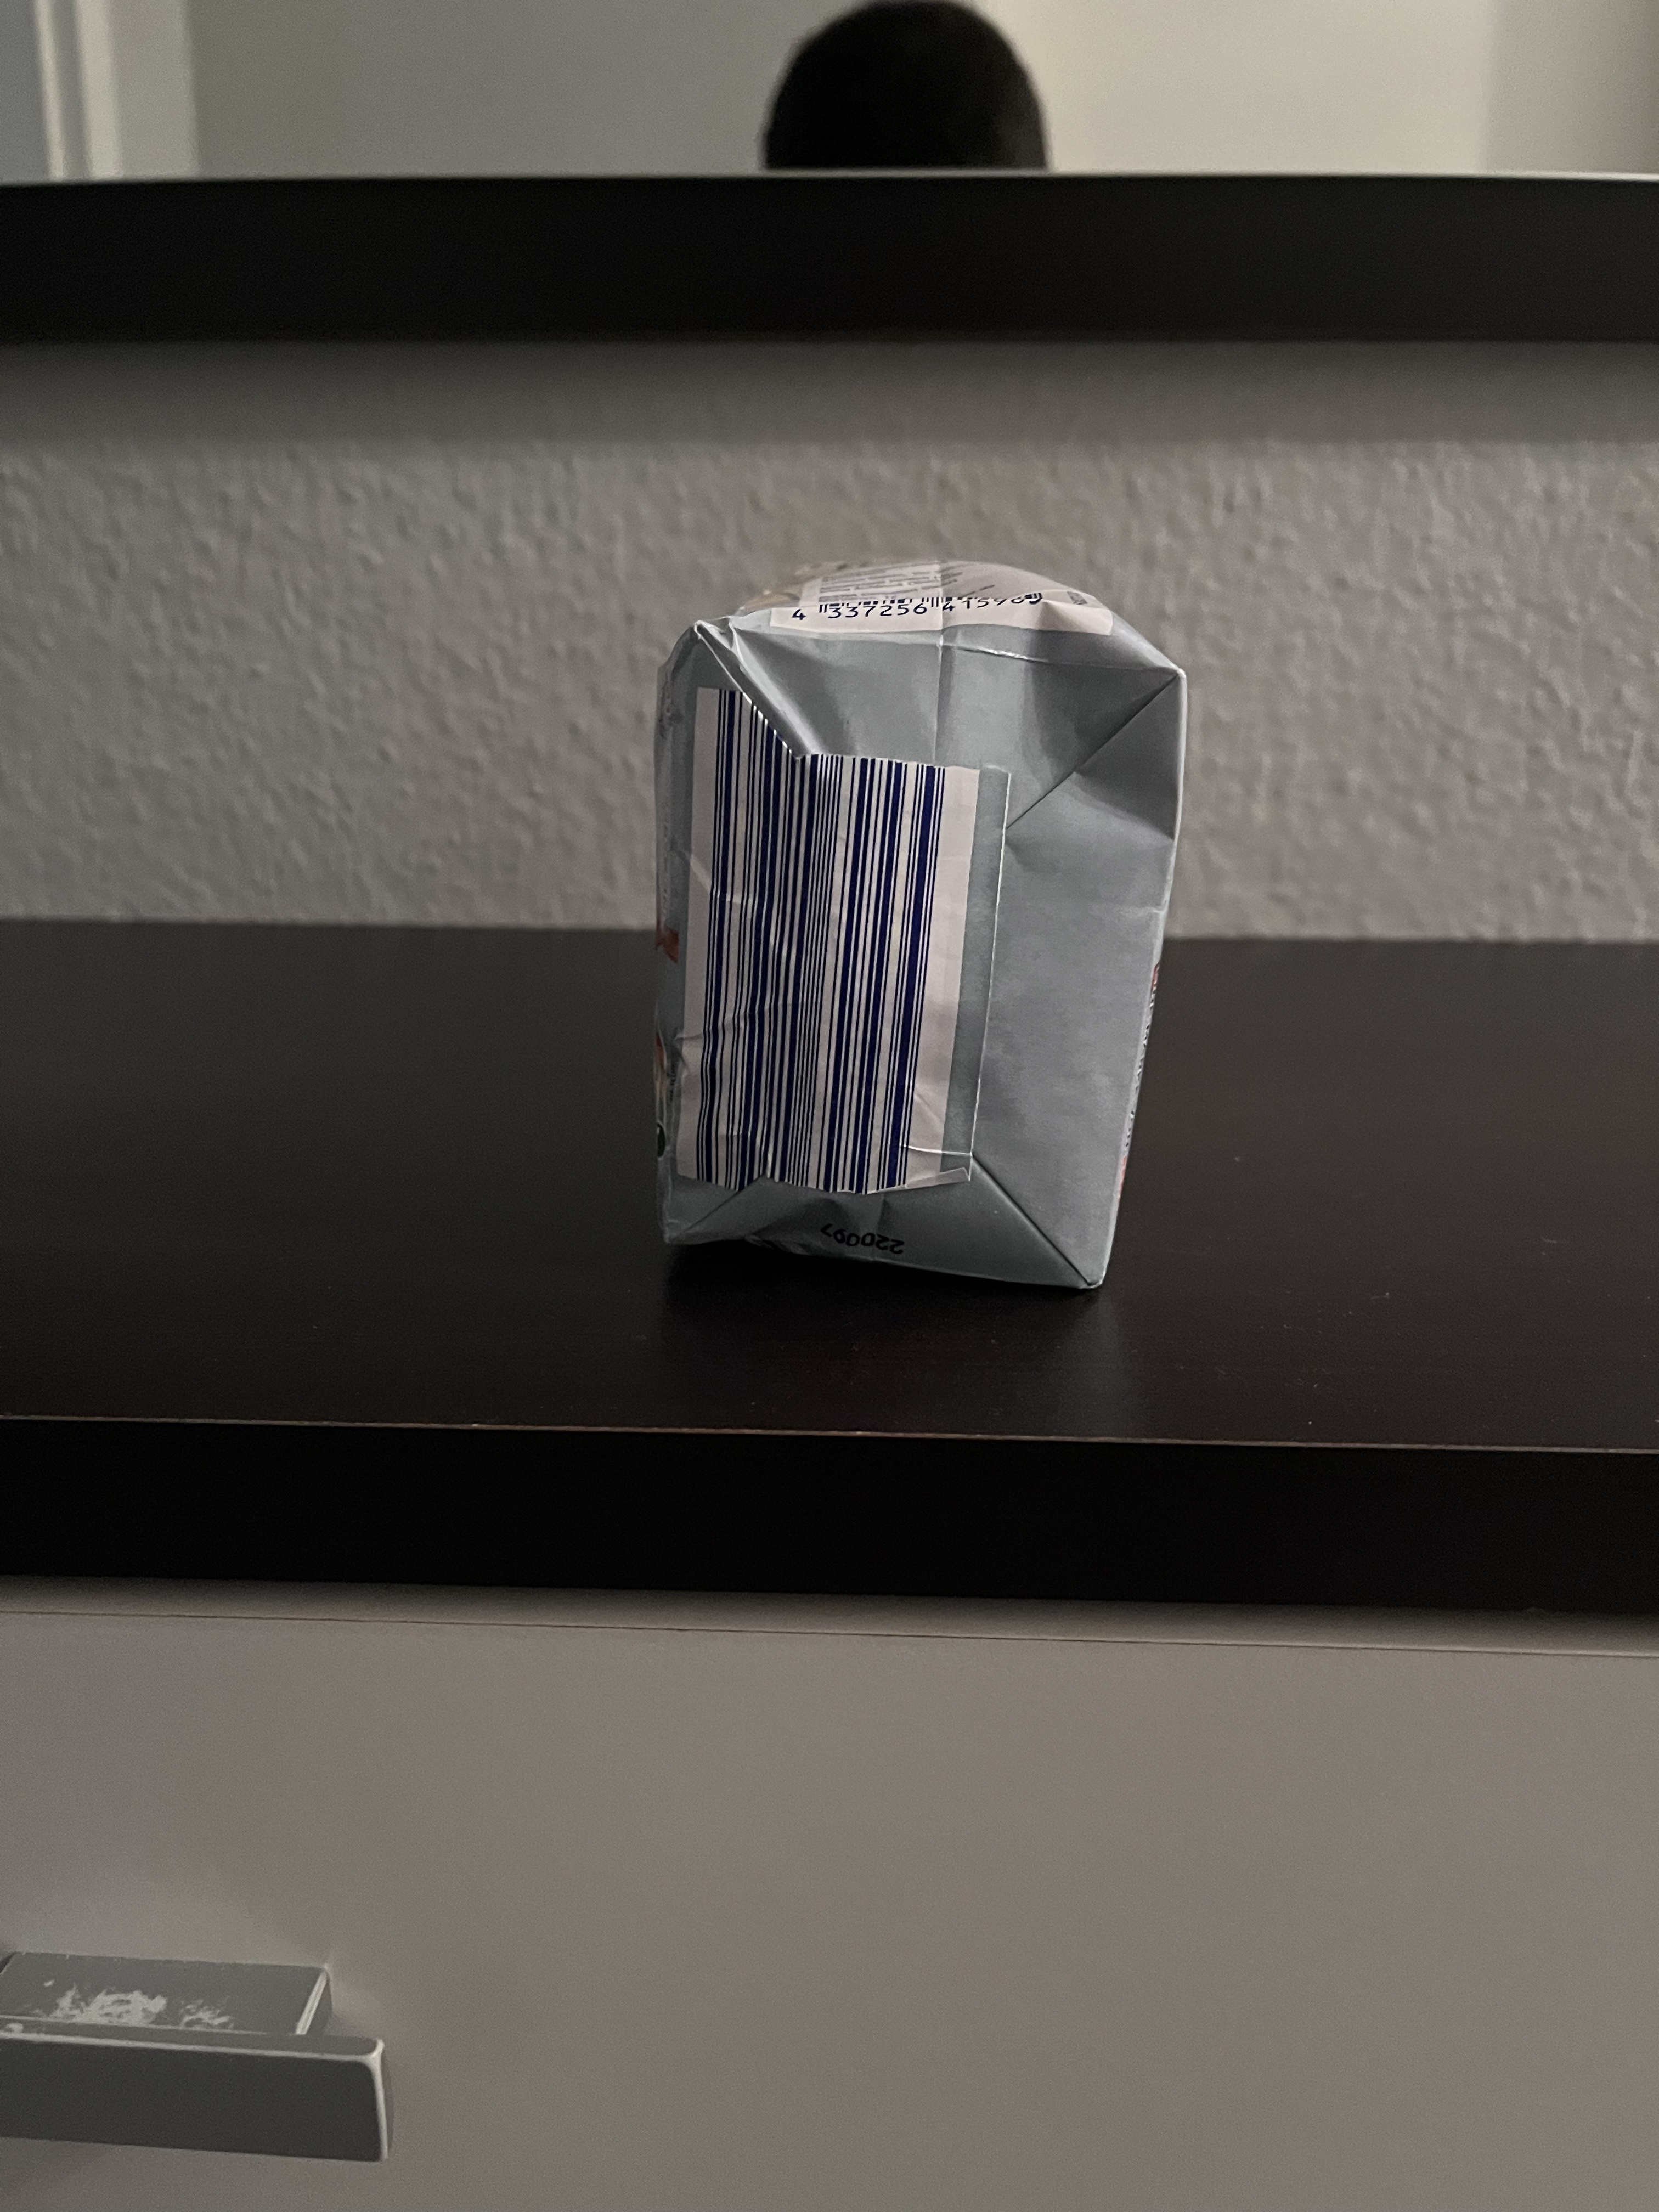haferflocken_ja: (641, 543, 1187, 1301)
